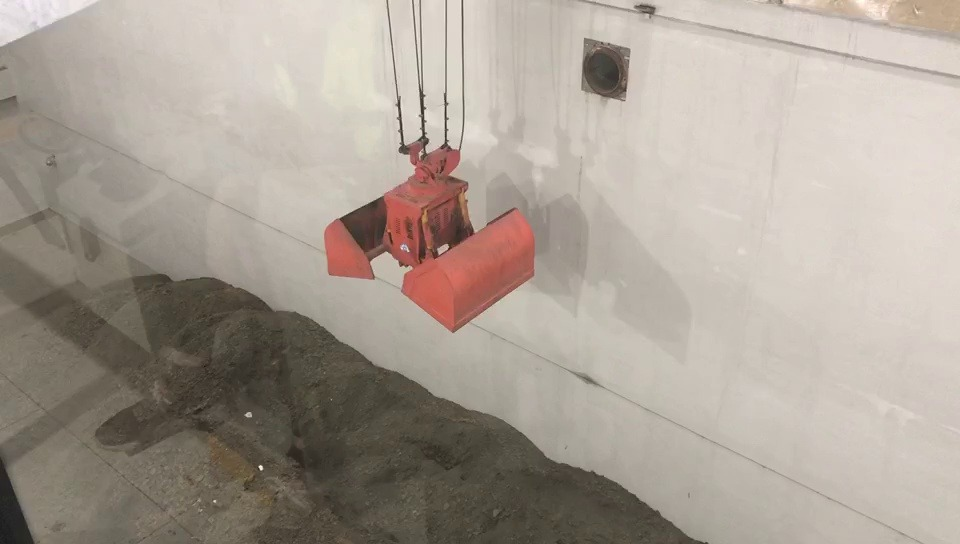grab: (317, 132, 542, 337)
